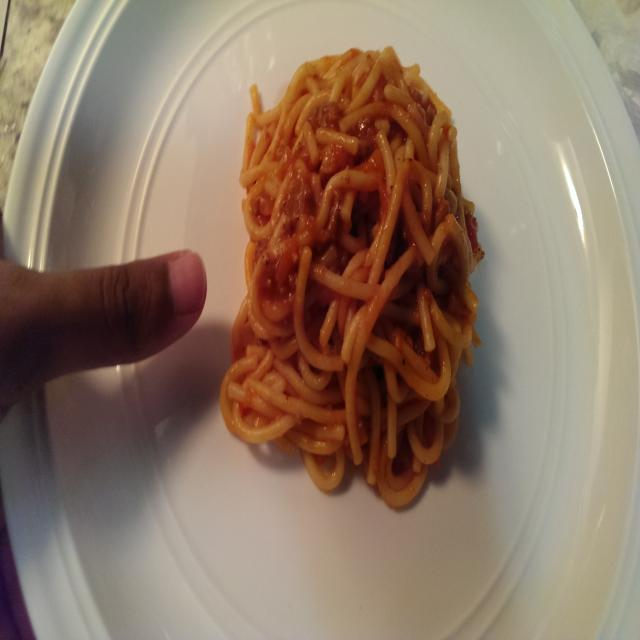pasta: (219, 44, 484, 509)
